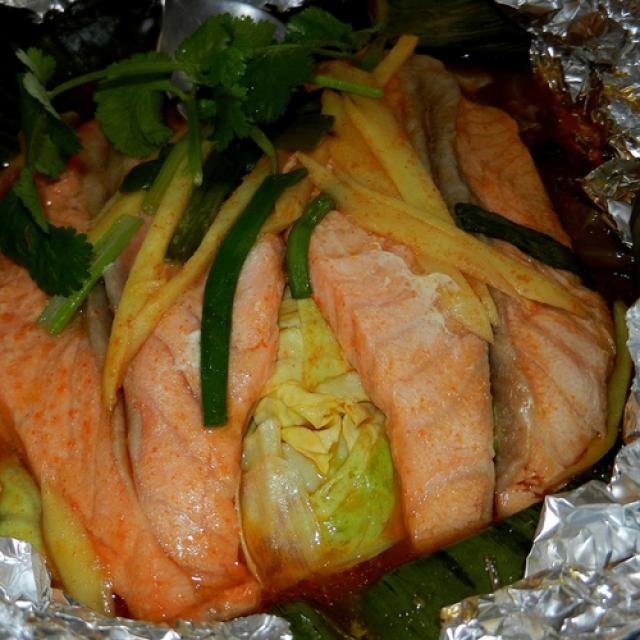熟制海鲜: (13, 28, 623, 629)
